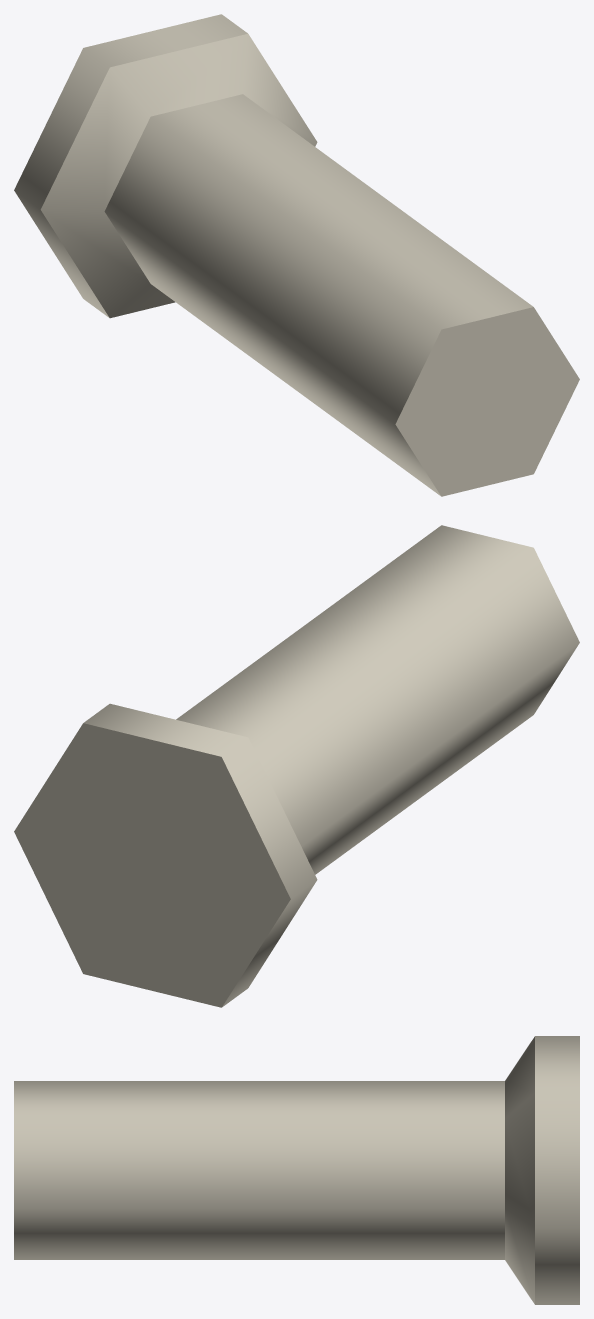
File: u65m_busbar.obj
The picture shows the model from 3 angles, top to bottom: view 1: azimuth 30°, elevation 25°; view 2: azimuth 150°, elevation 25°; view 3: azimuth 270°, elevation 25°; orthographic projection. The views are drawn at different scales.
Parts seen in each view (by area): view 1: u65m_busbar; view 2: u65m_busbar; view 3: u65m_busbar.
Boxes of the visible parts, x1,y1,x2,y2 form: u65m_busbar: [14, 14, 579, 496]; u65m_busbar: [14, 525, 579, 1007]; u65m_busbar: [14, 1036, 579, 1304].
Size of the model in its own units: 0.72 by 0.6235 by 1.51.
